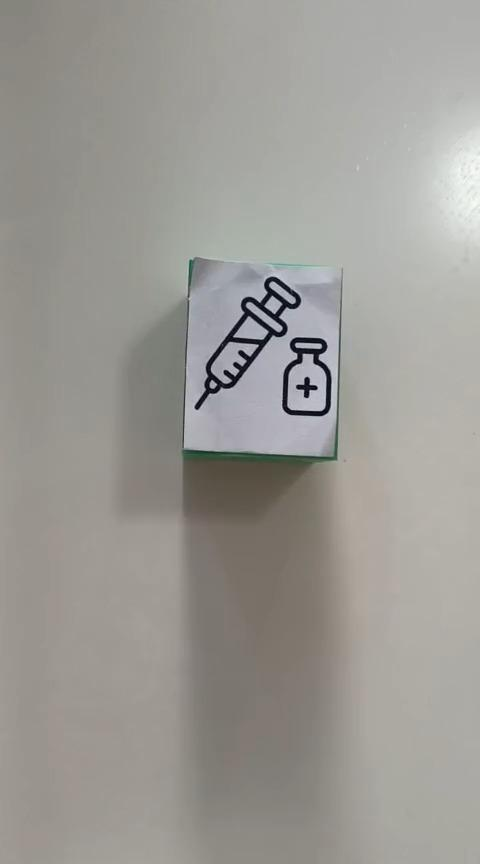antiseptic cream: (181, 257, 344, 463)
